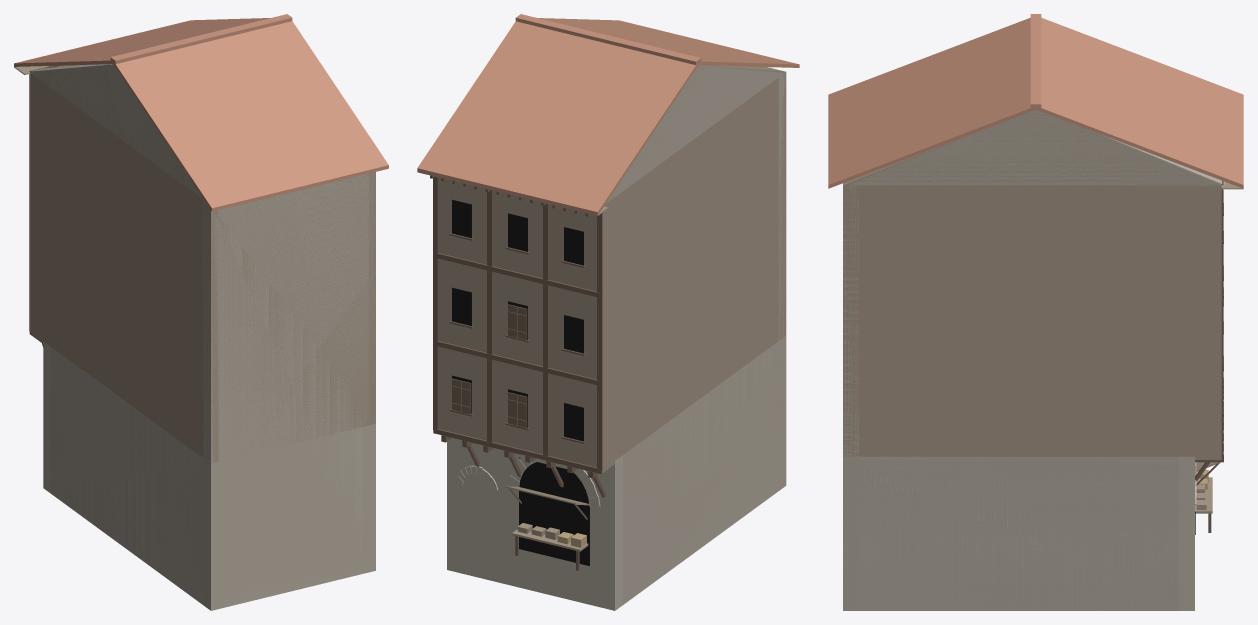
The model's file is casa-68-3-legno.glb.
The picture shows the model from 3 angles, left to right: view 1: azimuth 30°, elevation 25°; view 2: azimuth 150°, elevation 25°; view 3: azimuth 270°, elevation 25°; orthographic projection. The views are drawn at different scales.
Visible parts, largest first — view 1: vicino, lontano; view 2: vicino, lontano, aperta; view 3: vicino, lontano, aperta.
Boxes of the visible parts, x1=… form: vicino: x1=14, y1=14, x2=388, y2=610; lontano: x1=14, y1=61, x2=388, y2=607; vicino: x1=417, y1=14, x2=799, y2=610; lontano: x1=419, y1=62, x2=797, y2=610; aperta: x1=505, y1=486, x2=589, y2=570; vicino: x1=828, y1=14, x2=1243, y2=610; lontano: x1=828, y1=106, x2=1243, y2=610; aperta: x1=1195, y1=462, x2=1220, y2=532.
Bounding box in the file's own units: 7.3 × 19.17 × 14.15.
